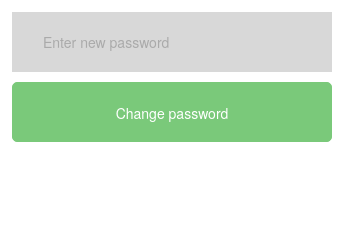
Scenario: ResetPasswordForm › says the link expired and links to request another
In the password field labelled "password": [172, 42] box [12,12,332,72], type "longenough1"
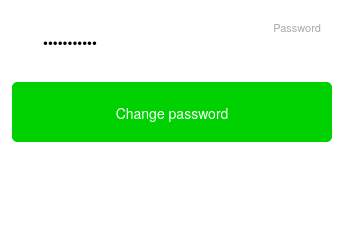
expect the button "Change password" is enabled: met
Click the button "Change password": [172, 112] box [12,82,332,142]
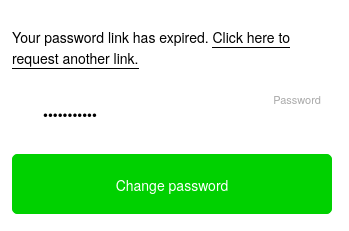
expect the text "Your password link has expired." is shown: met, box [12,27,212,47]
